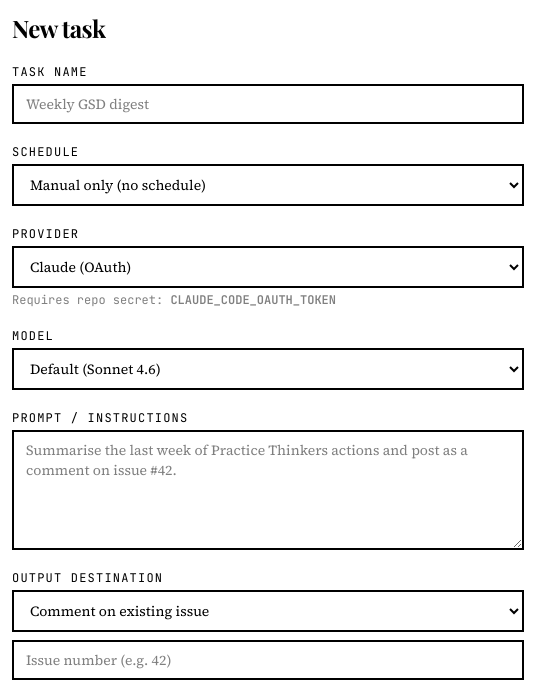
Test case: TaskForm › shows a custom cron input when "Custom cron" is selected
This screenshot has width=541, height=689.
Select "Custom cron…" in the dropdown labelled "Schedule": [268, 185] box [12,164,524,206]
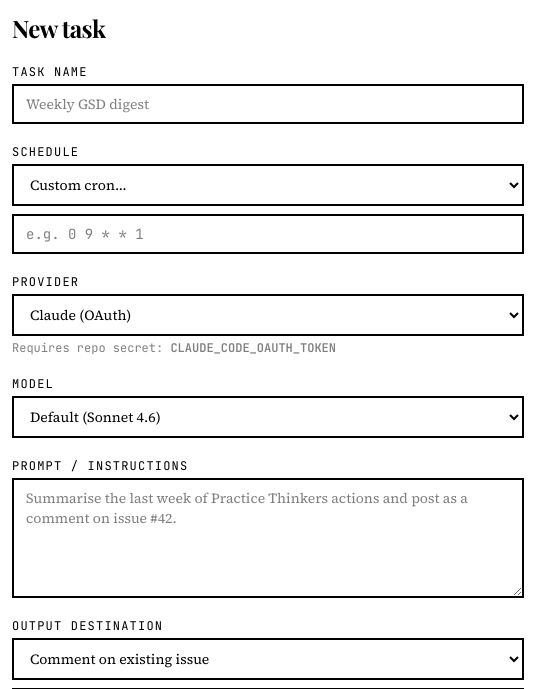
Expected: the field with placeholder "e.g. 0 9 * * 1" is shown, [12,214,524,254]
